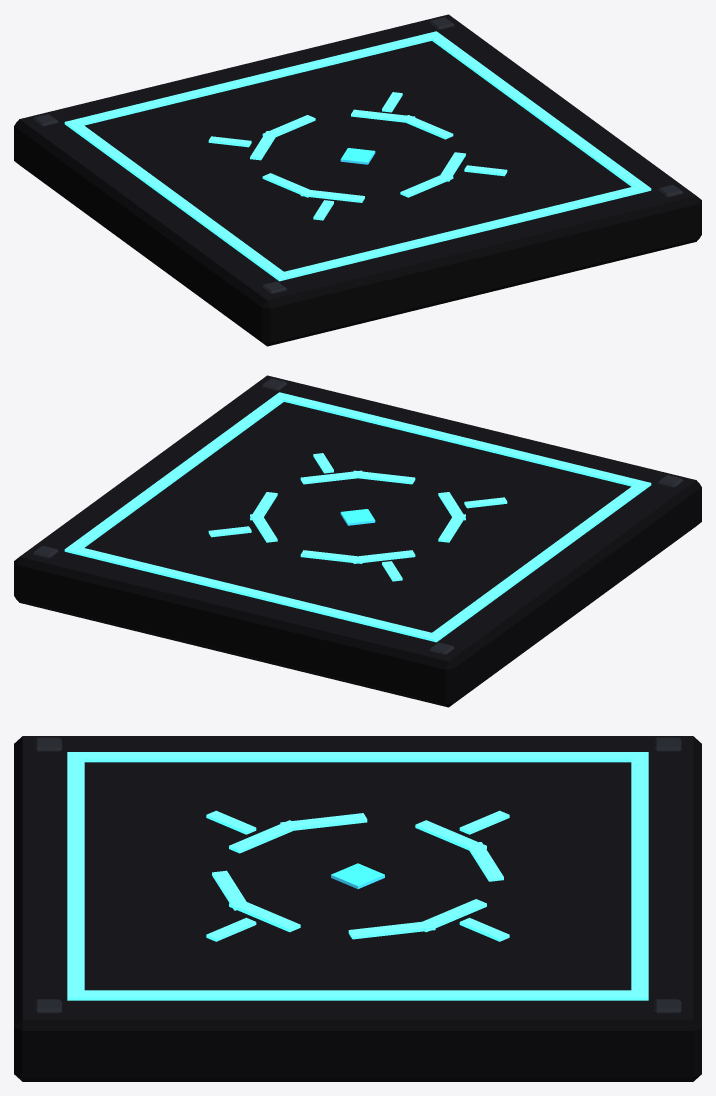
The model's file is SM_Floor_Glyph_A.glb.
The picture shows the model from 3 angles, top to bottom: view 1: azimuth 30°, elevation 25°; view 2: azimuth 150°, elevation 25°; view 3: azimuth 270°, elevation 25°; orthographic projection. The views are drawn at different scales.
Visible parts, largest first — view 1: SM_Floor_Glyph_A; view 2: SM_Floor_Glyph_A; view 3: SM_Floor_Glyph_A.
Boxes of the visible parts, bbox=[...] form: SM_Floor_Glyph_A: bbox=[14, 14, 701, 346]; SM_Floor_Glyph_A: bbox=[14, 375, 701, 707]; SM_Floor_Glyph_A: bbox=[14, 736, 701, 1081].
Bounding box in the file's own units: 2 × 0.215 × 2.
Materials: 1 (1 with a texture image).
